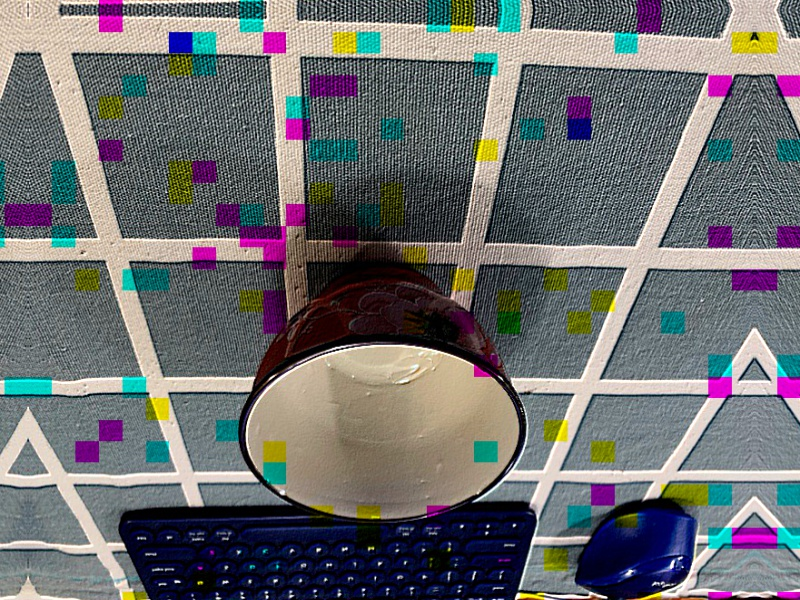bowl_small: (235, 256, 535, 529)
